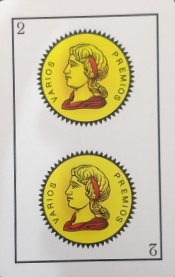2o: (10, 12, 159, 36)
